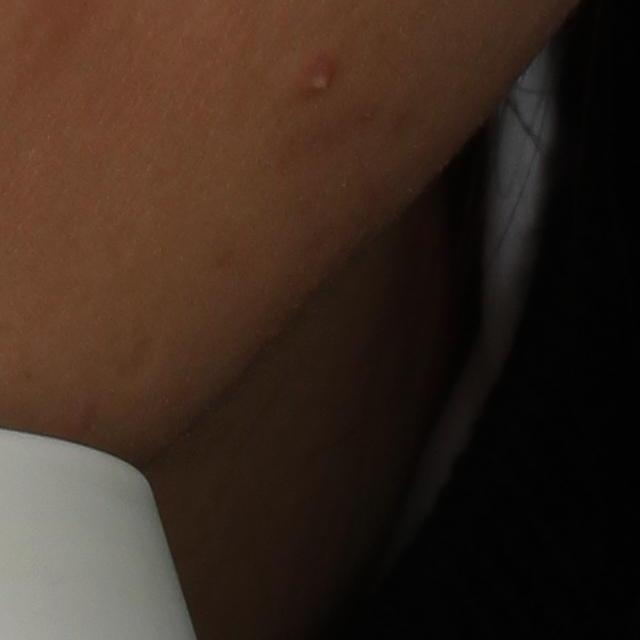pustule: (290, 51, 346, 104)
